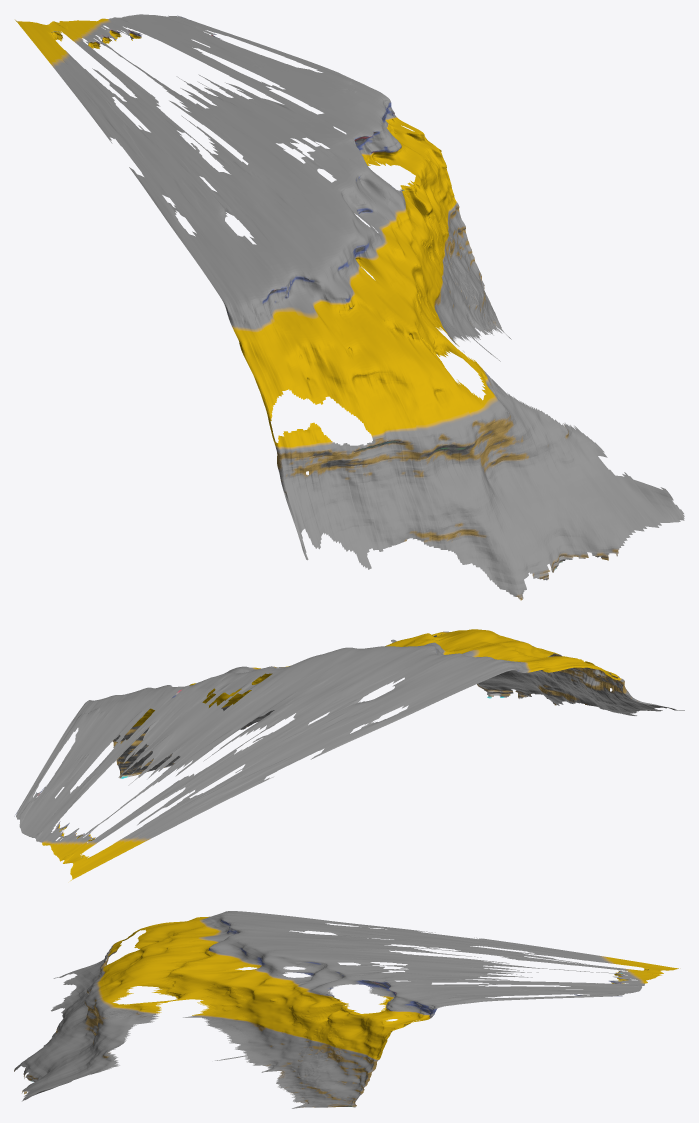
Rendered from segmented.glb.
3 renders of one model, top to bottom at view 1: azimuth 30°, elevation 25°; view 2: azimuth 150°, elevation 25°; view 3: azimuth 270°, elevation 25°, orthographic. The views are drawn at different scales.
Visible parts, largest first — view 1: geometry_0; view 2: geometry_0; view 3: geometry_0.
Boxes of the visible parts, x1,y1,x2,y2 form: geometry_0: [15, 14, 684, 600]; geometry_0: [14, 629, 684, 880]; geometry_0: [14, 911, 678, 1108].
Size of the model in its own units: 0.5885 by 0.2841 by 1.31.
